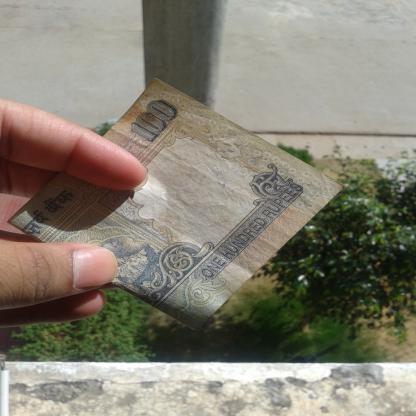Old100Back: (3, 75, 350, 332)
